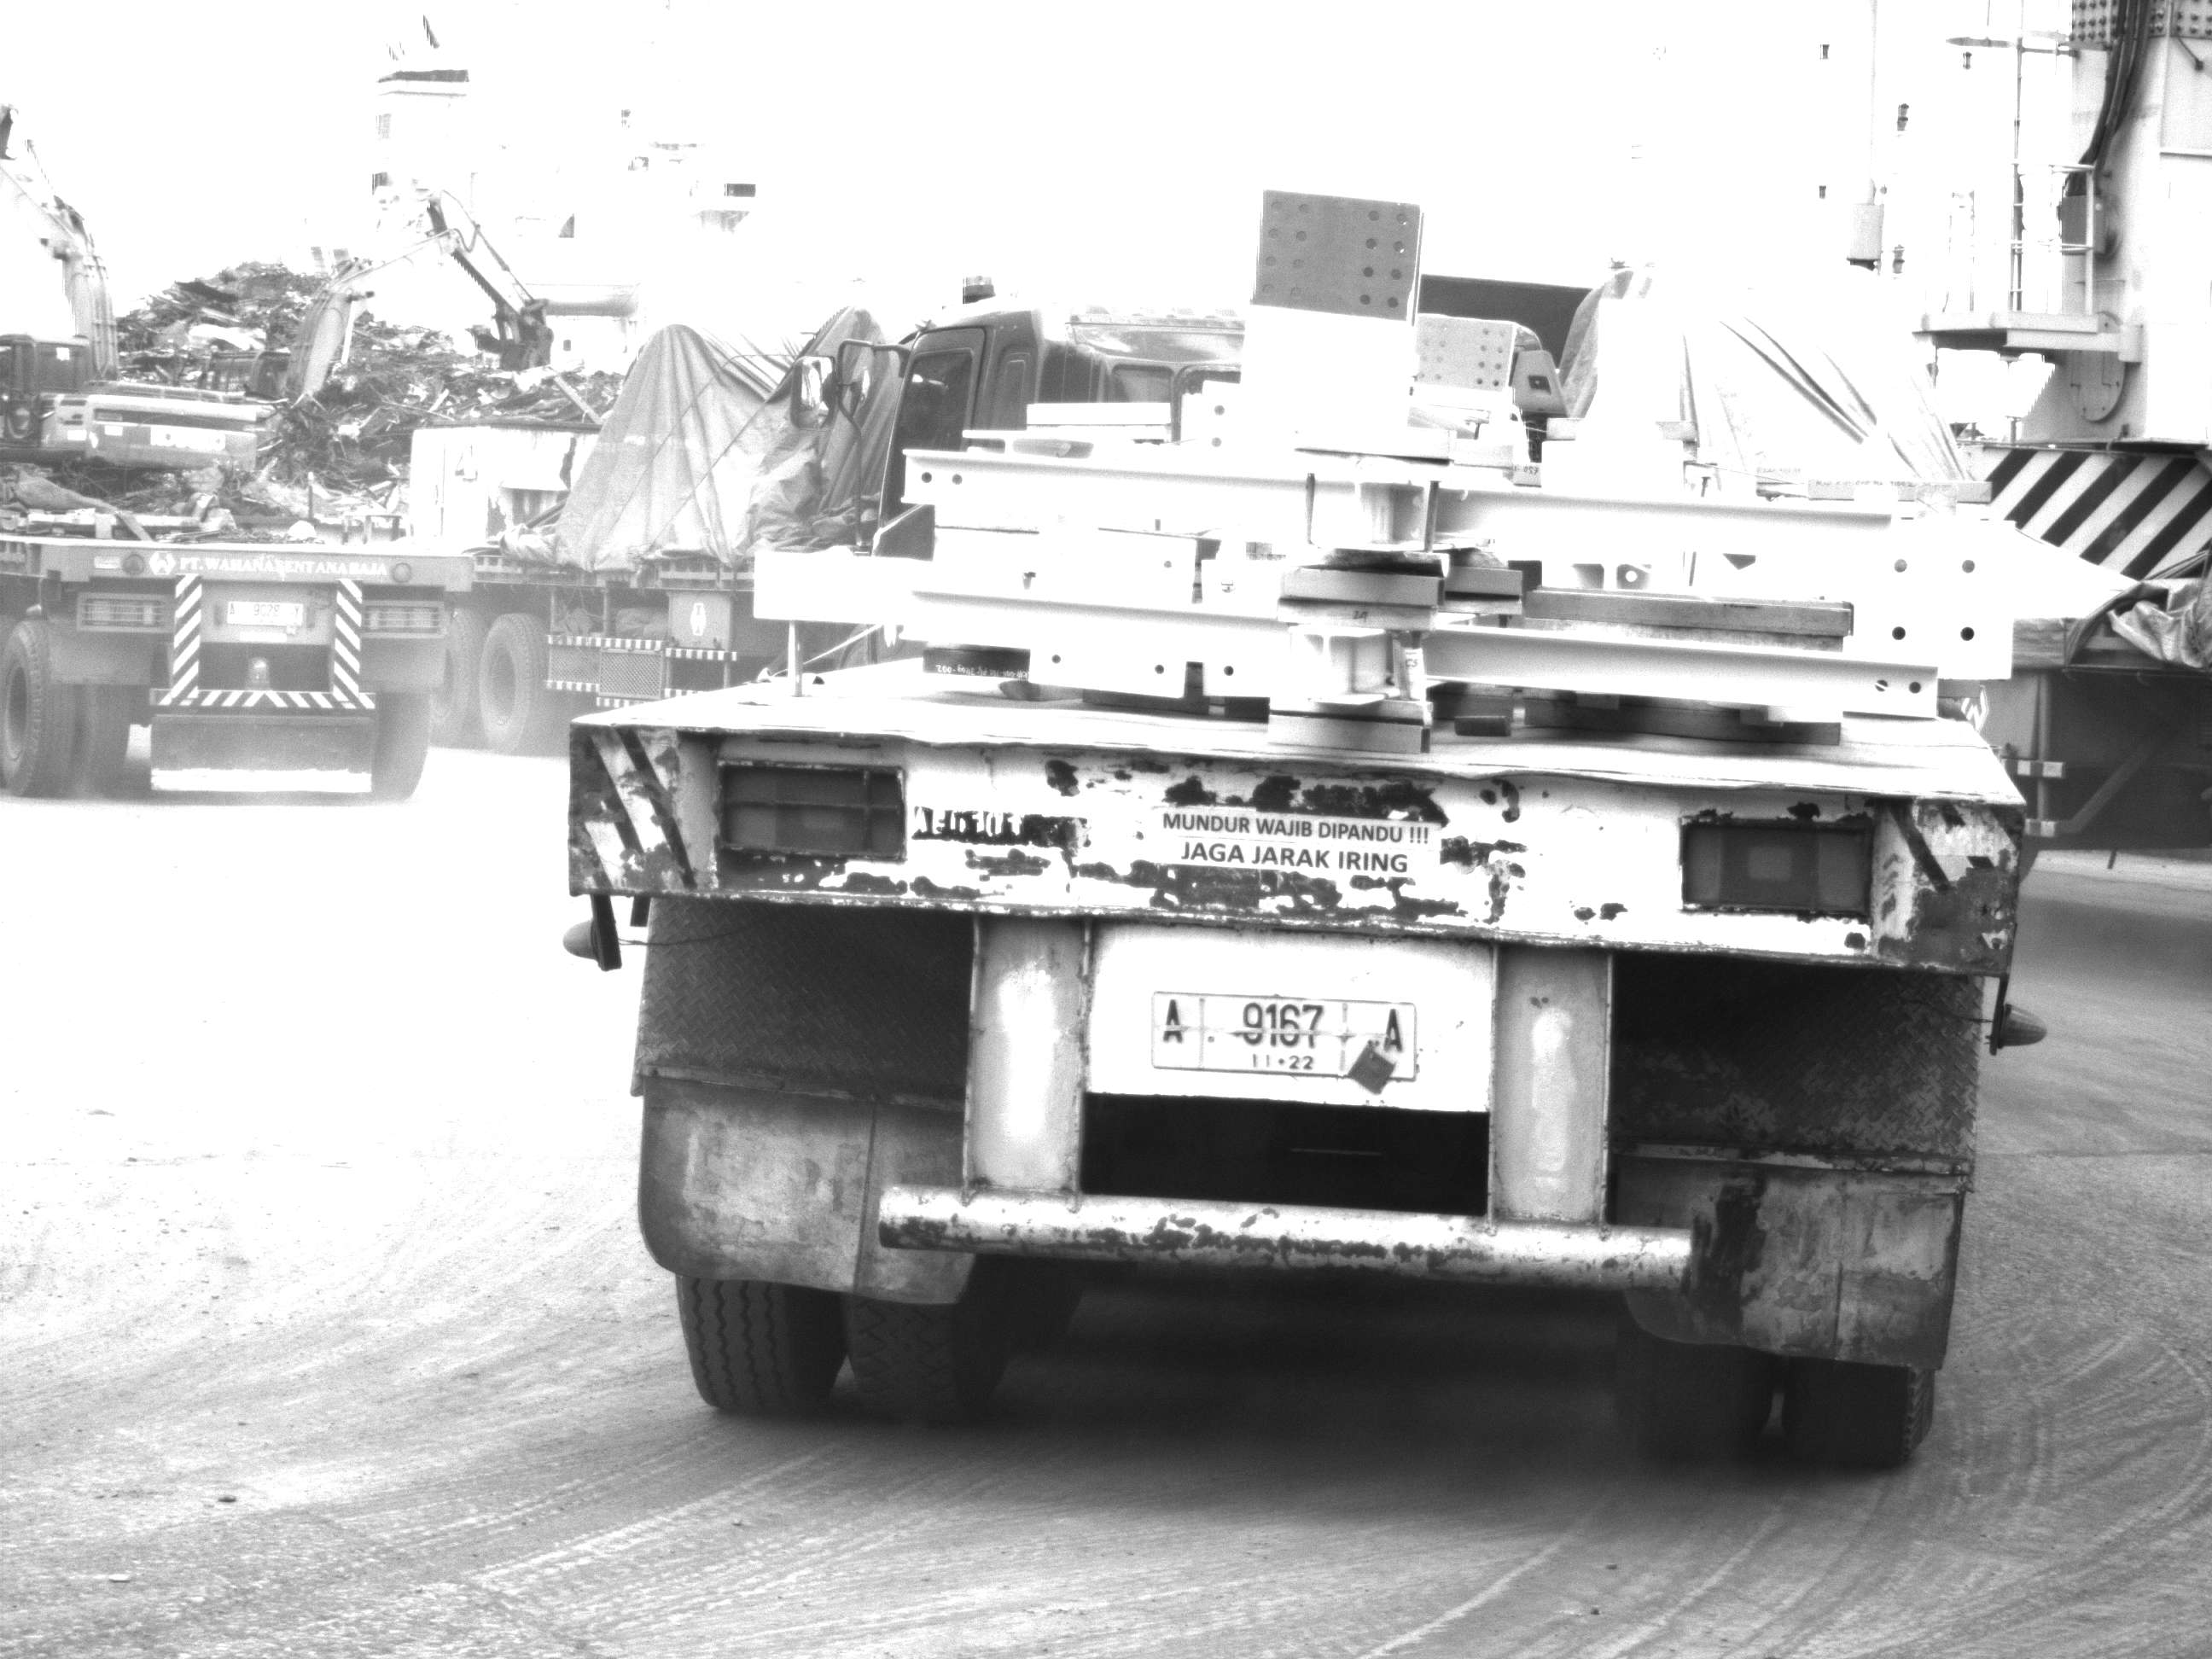day_truck_rear: (556, 713, 1969, 1459)
plate: (1155, 988, 1429, 1090)
